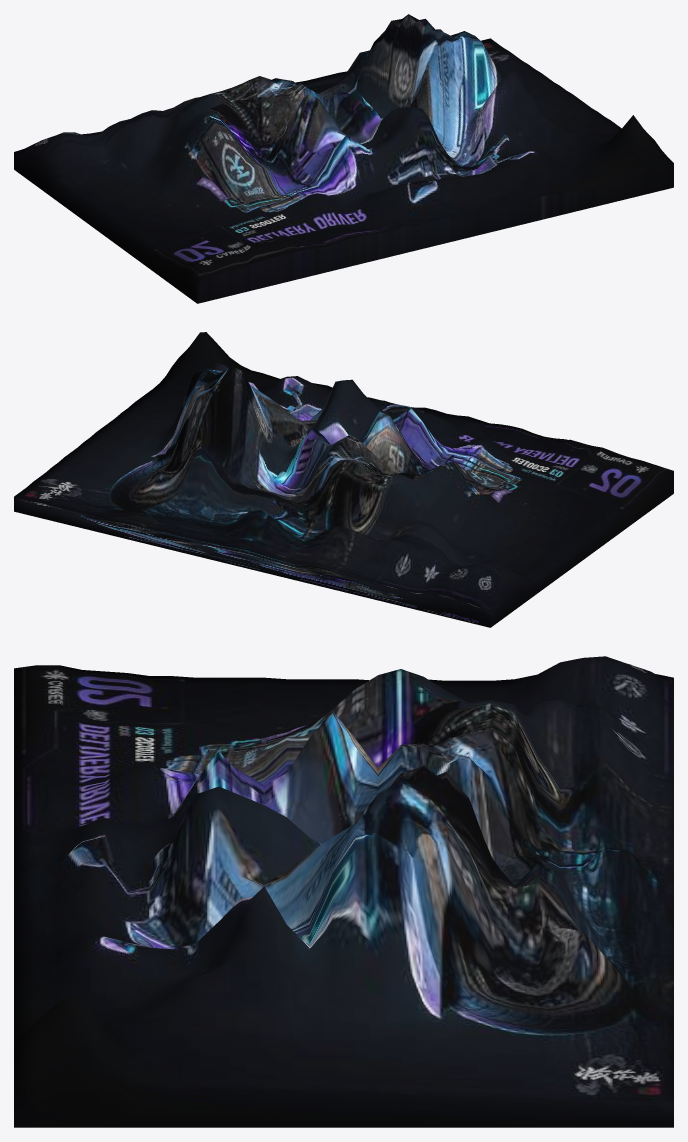
File: CAREER_02_Tool_03_Scooter.glb
The picture shows the model from 3 angles, top to bottom: view 1: azimuth 30°, elevation 25°; view 2: azimuth 150°, elevation 25°; view 3: azimuth 270°, elevation 25°; orthographic projection. The views are drawn at different scales.
Parts seen in each view (by area): view 1: CAREER_02_Tool_03_Scooter; view 2: CAREER_02_Tool_03_Scooter; view 3: CAREER_02_Tool_03_Scooter.
Part boxes in pixels (x1=…): CAREER_02_Tool_03_Scooter: x1=14, y1=14, x2=673, y2=303; CAREER_02_Tool_03_Scooter: x1=14, y1=332, x2=673, y2=627; CAREER_02_Tool_03_Scooter: x1=14, y1=656, x2=673, y2=1127.
Size of the model in its own units: 2 by 0.51 by 1.33.
1 material, 1 textured.
